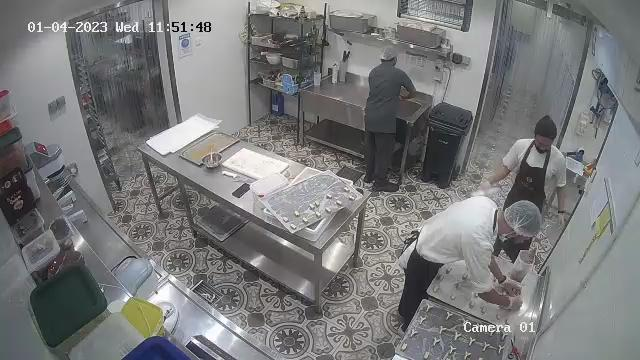apron: (504, 139, 559, 212), (403, 243, 447, 272)
